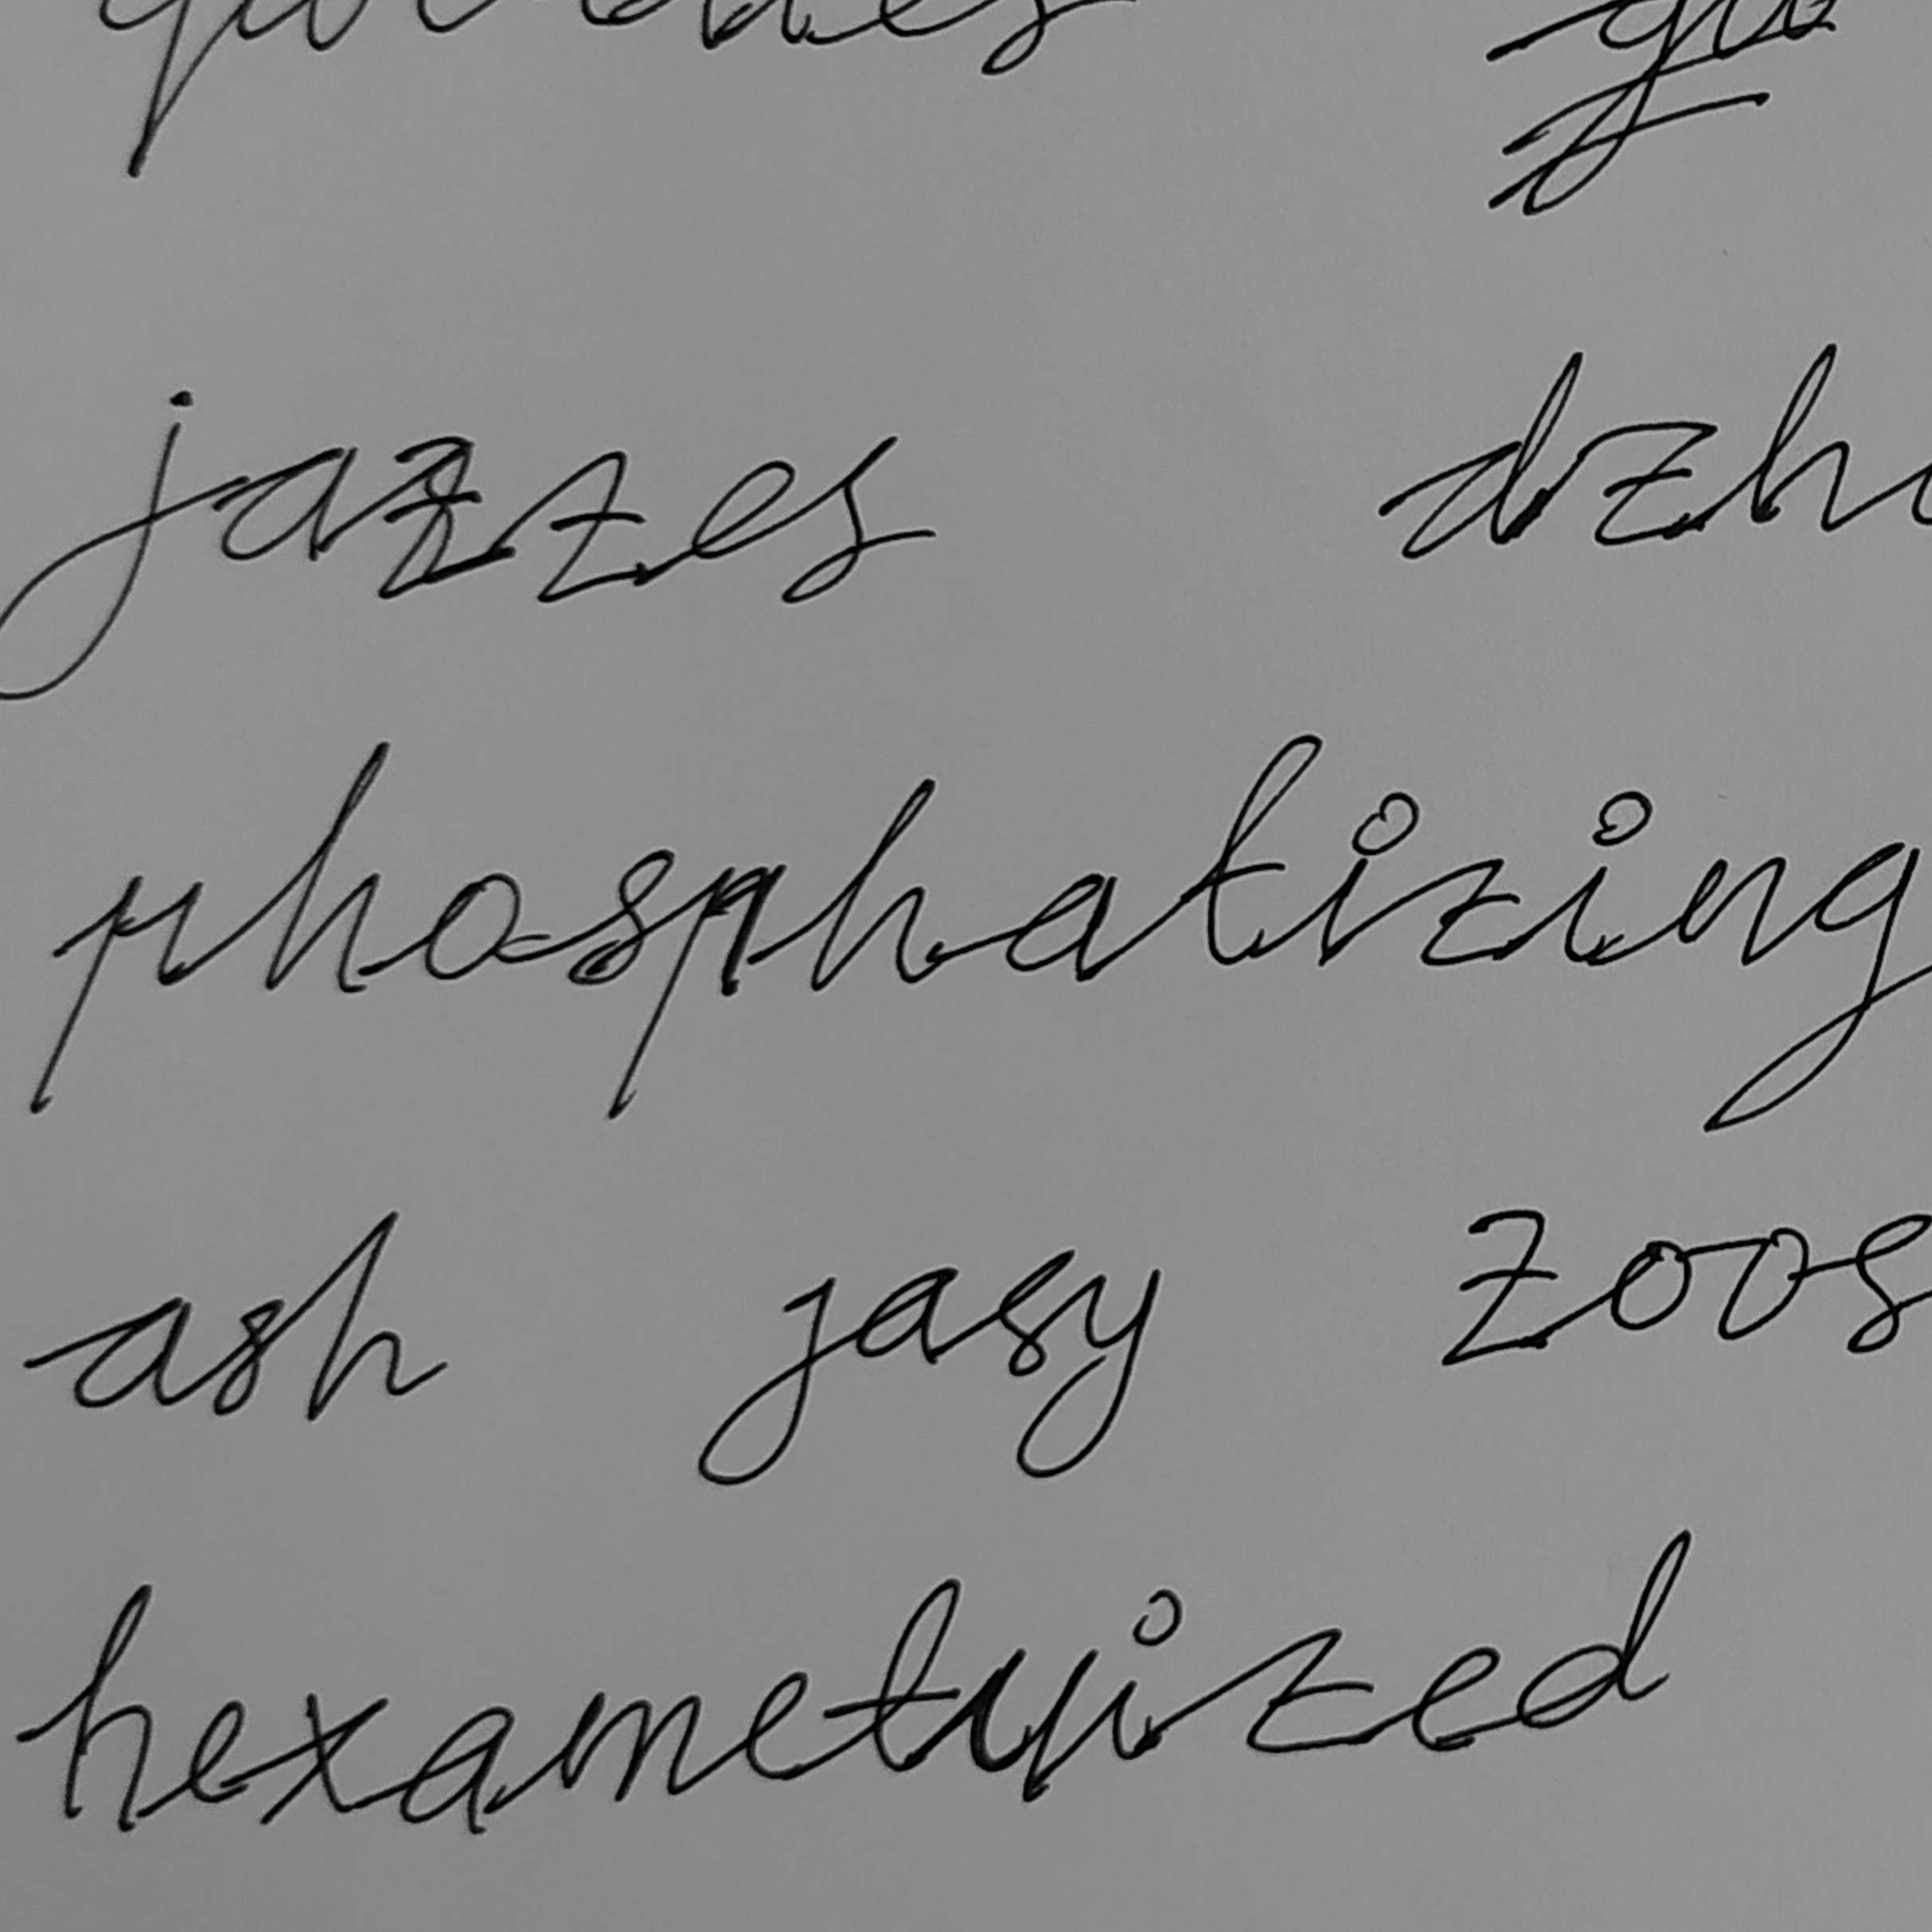a: (1003, 865, 1122, 985)
g: (1698, 835, 1923, 1138)
h: (258, 738, 393, 1000), (807, 771, 941, 998)
i: (1311, 787, 1422, 975), (1555, 787, 1656, 971)
n: (1672, 847, 1790, 970)
o: (421, 867, 525, 993)
p: (596, 858, 789, 1125), (23, 869, 209, 1122)
s: (561, 846, 678, 989)
t: (1177, 731, 1327, 971)
z: (1415, 853, 1518, 973)
